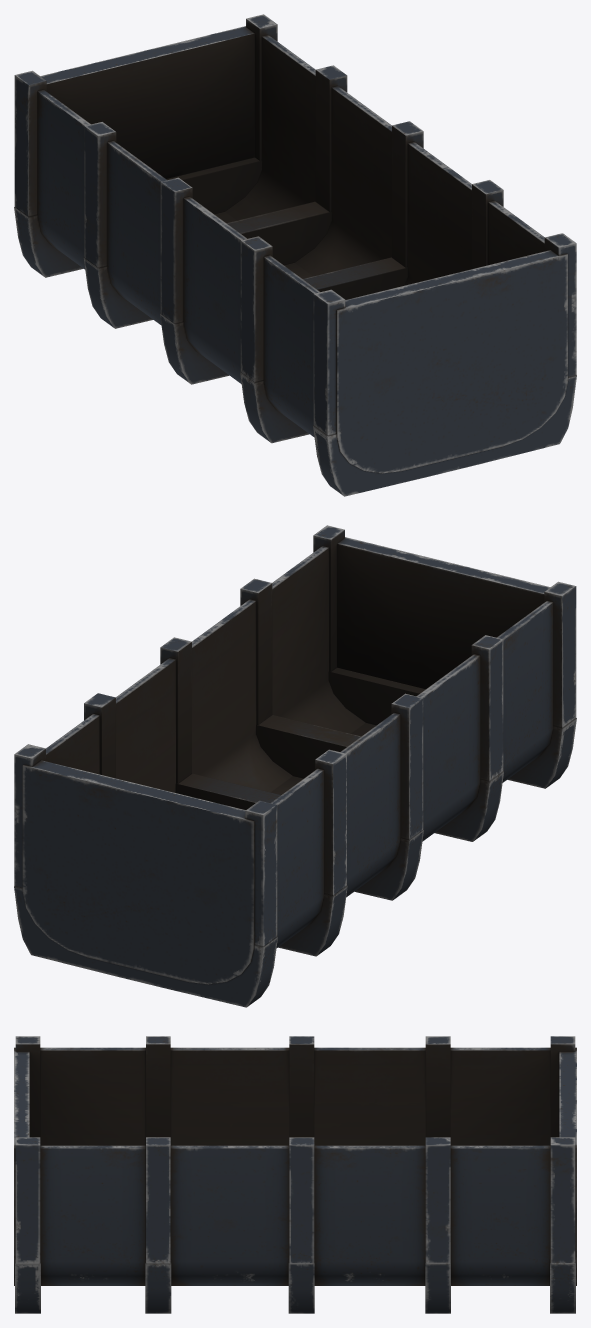
File: rocksbucket.fbx
The picture shows the model from 3 angles, top to bottom: view 1: azimuth 30°, elevation 25°; view 2: azimuth 150°, elevation 25°; view 3: azimuth 270°, elevation 25°; orthographic projection. The views are drawn at different scales.
Visible parts, largest first — view 1: rocks; view 2: rocks; view 3: rocks.
Part boxes in pixels (bbox=[...]): rocks: bbox=[14, 14, 576, 496]; rocks: bbox=[14, 525, 576, 1007]; rocks: bbox=[14, 1036, 576, 1313].
Bounding box in the file's own units: 260 × 196 × 569.
